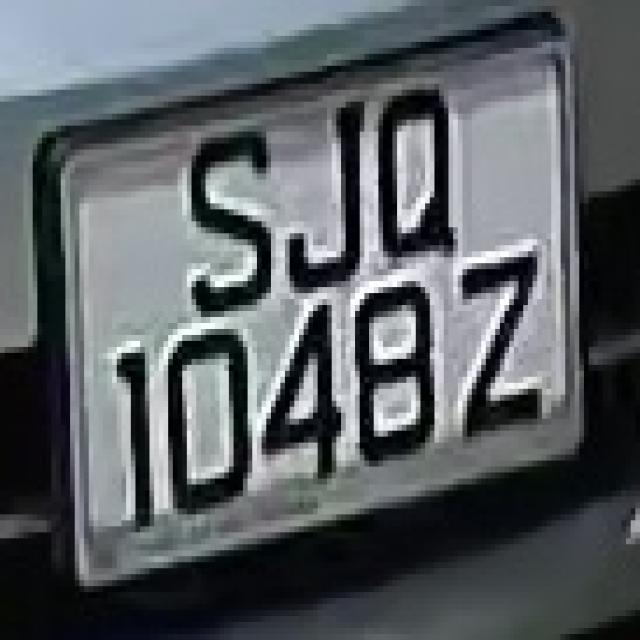0: (154, 317, 257, 526)
1: (98, 317, 164, 556)
4: (266, 305, 351, 485)
8: (341, 275, 439, 479)
J: (276, 84, 374, 305)
Q: (341, 66, 467, 275)
S: (163, 90, 271, 341)
Z: (444, 245, 556, 449)
